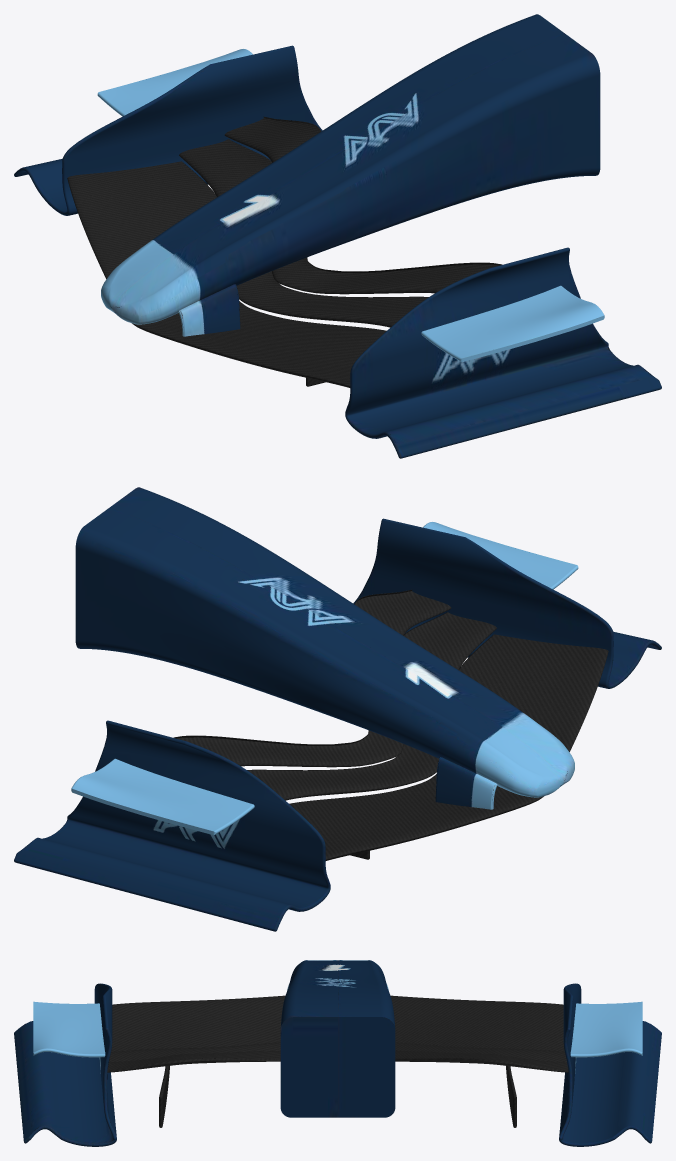
The picture shows the model from 3 angles, top to bottom: view 1: azimuth 30°, elevation 25°; view 2: azimuth 150°, elevation 25°; view 3: azimuth 270°, elevation 25°; orthographic projection. The views are drawn at different scales.
Parts seen in each view (by area): view 1: Cuerpo22, Cuerpo23, Cuerpo44, Cuerpo43, Cuerpo45, Cuerpo24, Cuerpo26, Cuerpo27, Cuerpo25, Cuerpo46, Cuerpo48, Cuerpo47; view 2: Cuerpo43, Cuerpo44, Cuerpo23, Cuerpo22, Cuerpo24, Cuerpo45, Cuerpo47, Cuerpo48, Cuerpo46, Cuerpo25, Cuerpo27, Cuerpo26; view 3: Cuerpo44, Cuerpo23, Cuerpo22, Cuerpo43, Cuerpo24, Cuerpo45, Cuerpo26, Cuerpo47, Cuerpo27, Cuerpo48, Cuerpo46, Cuerpo25 (+2 smaller).
Part boxes in pixels (x1=…): Cuerpo22: x1=112, y1=34, x2=600, y2=336; Cuerpo23: x1=345, y1=247, x2=661, y2=458; Cuerpo44: x1=14, y1=45, x2=322, y2=215; Cuerpo43: x1=101, y1=14, x2=565, y2=311; Cuerpo45: x1=67, y1=161, x2=242, y2=315; Cuerpo24: x1=132, y1=304, x2=386, y2=387; Cuerpo26: x1=421, y1=285, x2=604, y2=362; Cuerpo27: x1=277, y1=262, x2=502, y2=294; Cuerpo25: x1=240, y1=285, x2=428, y2=327; Cuerpo46: x1=179, y1=139, x2=280, y2=299; Cuerpo48: x1=224, y1=116, x2=321, y2=281; Cuerpo47: x1=97, y1=49, x2=252, y2=116; Cuerpo43: x1=75, y1=507, x2=563, y2=809; Cuerpo44: x1=14, y1=720, x2=330, y2=931; Cuerpo23: x1=353, y1=518, x2=661, y2=688; Cuerpo22: x1=110, y1=487, x2=574, y2=784; Cuerpo24: x1=433, y1=634, x2=608, y2=788; Cuerpo45: x1=289, y1=777, x2=543, y2=860; Cuerpo47: x1=71, y1=758, x2=254, y2=835; Cuerpo48: x1=173, y1=735, x2=398, y2=767; Cuerpo46: x1=247, y1=758, x2=435, y2=800; Cuerpo25: x1=395, y1=612, x2=496, y2=772; Cuerpo27: x1=354, y1=589, x2=451, y2=754; Cuerpo26: x1=423, y1=522, x2=578, y2=589; Cuerpo44: x1=559, y1=983, x2=661, y2=1146; Cuerpo23: x1=14, y1=983, x2=116, y2=1146; Cuerpo22: x1=280, y1=960, x2=337, y2=1117; Cuerpo43: x1=338, y1=960, x2=395, y2=1117; Cuerpo24: x1=111, y1=995, x2=285, y2=1051; Cuerpo45: x1=390, y1=995, x2=564, y2=1051; Cuerpo26: x1=33, y1=1001, x2=105, y2=1057; Cuerpo47: x1=570, y1=1001, x2=642, y2=1057; Cuerpo27: x1=107, y1=1051, x2=280, y2=1072; Cuerpo48: x1=395, y1=1051, x2=568, y2=1072; Cuerpo46: x1=395, y1=1042, x2=566, y2=1062; Cuerpo25: x1=109, y1=1042, x2=280, y2=1062.
Size of the model in its own units: 1.22 by 0.5161 by 1.81.
14 materials, 14 textured.
